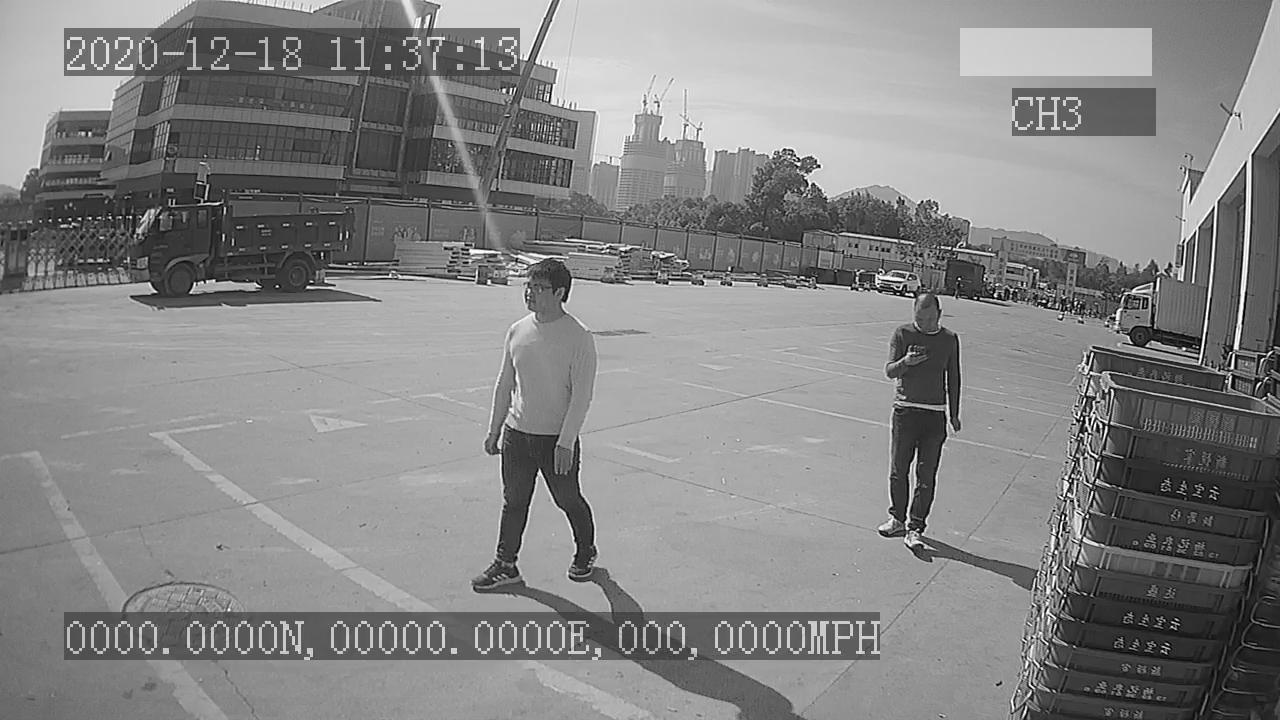person: (466, 253, 609, 595), (869, 285, 966, 555)
